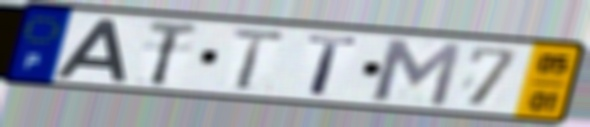7: (464, 44, 523, 109)
A: (51, 17, 130, 85)
M: (369, 35, 466, 109)
T: (227, 26, 292, 92), (144, 18, 202, 88), (305, 33, 362, 98)
